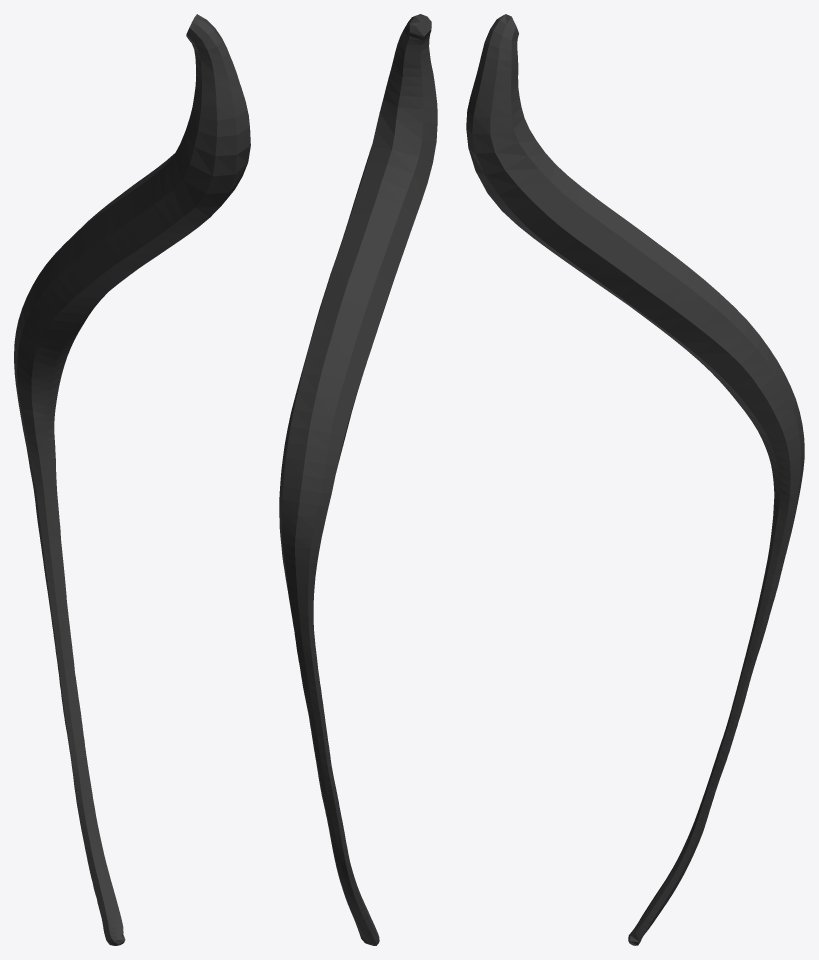
File: LongDE.glb
3 views of the same model, side by side, from view 1: azimuth 30°, elevation 25°; view 2: azimuth 150°, elevation 25°; view 3: azimuth 270°, elevation 25° (orthographic). The views are drawn at different scales.
Parts seen in each view (by area): view 1: LongDE; view 2: LongDE; view 3: LongDE.
Part boxes in pixels (left/top/right/bottom): LongDE: left=14, top=14, right=250, bottom=945; LongDE: left=279, top=14, right=437, bottom=945; LongDE: left=466, top=14, right=804, bottom=945.
Size of the model in its own units: 16.28 by 171 by 56.1.
1 material, 1 textured.
